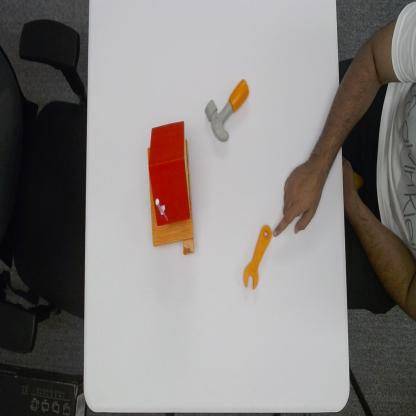Arm: (315, 82, 343, 169)
Hammer: (203, 77, 251, 145)
Hand: (272, 160, 322, 237)
House: (147, 118, 195, 256)
Screwdriver: (241, 223, 273, 291)
